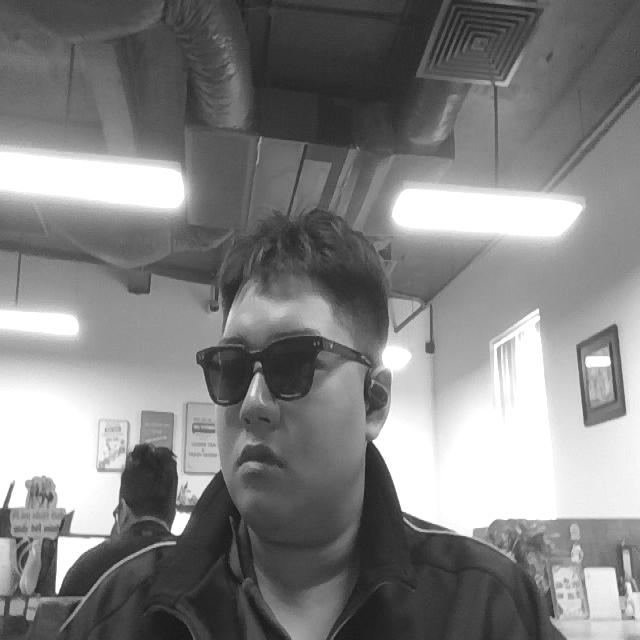fake: (191, 331, 379, 407)
real: (213, 216, 384, 535)
